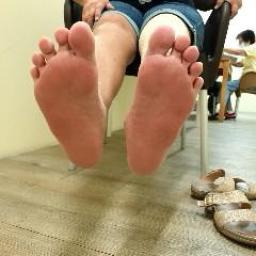Plantar View -Both Feet-: (22, 9, 216, 177)
